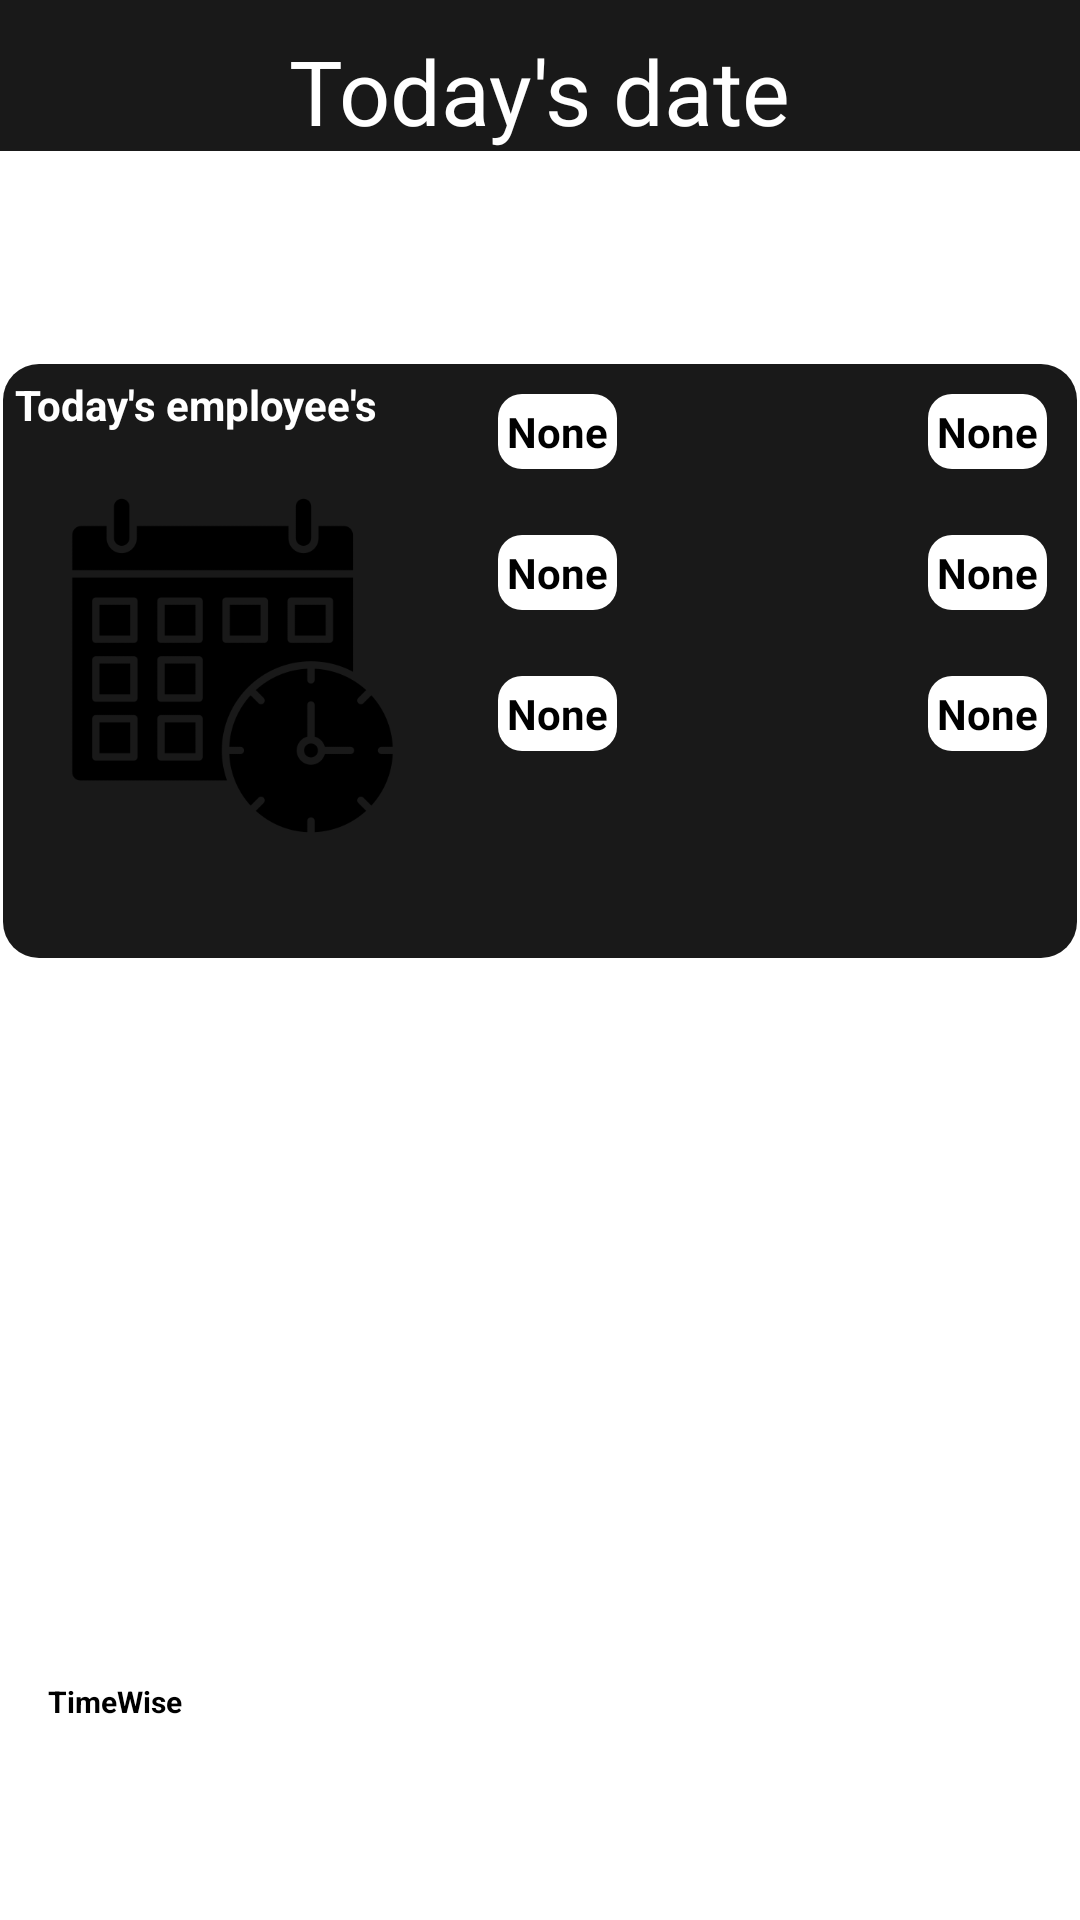

Where to tap for icons on this 1080px×1920px app screen, as [x,y]:
timetable: [232,665]
